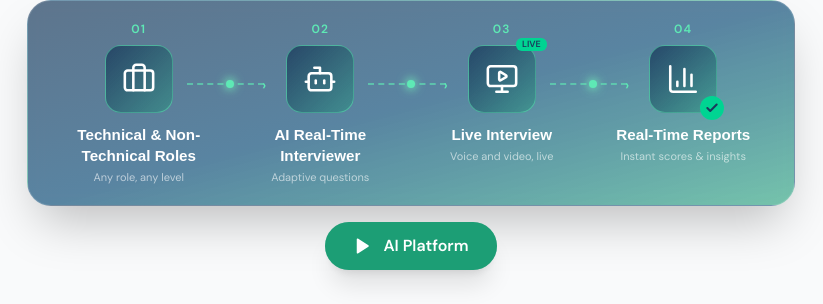
Scenario: IntroPlayer (Play button) › pressing Play speaks the introduction and shows Stop
Click the button with aria-label "play introduction".
click(411, 246)  # box [326,222,497,270]
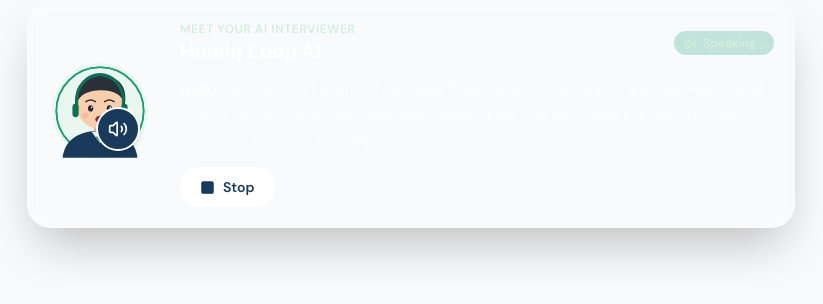
Now the button "Stop" is shown, box [180,167,275,207]
Now the text "Speaking…" is shown, box [674,31,774,55]
